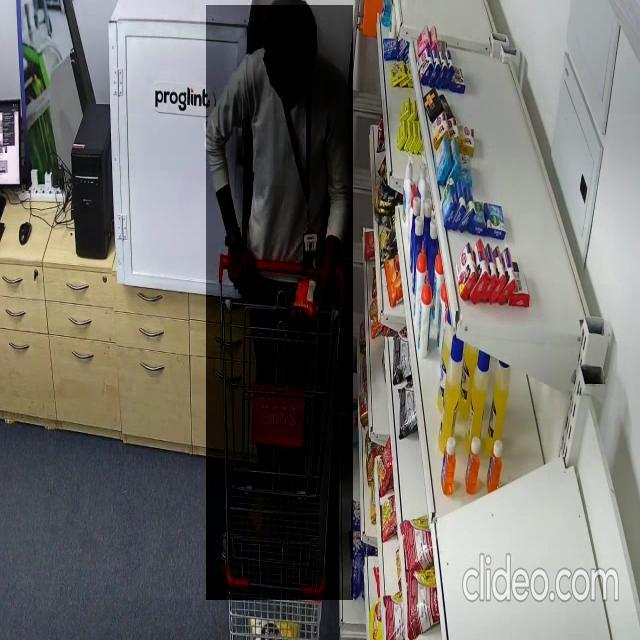normal: (206, 5, 353, 600)
